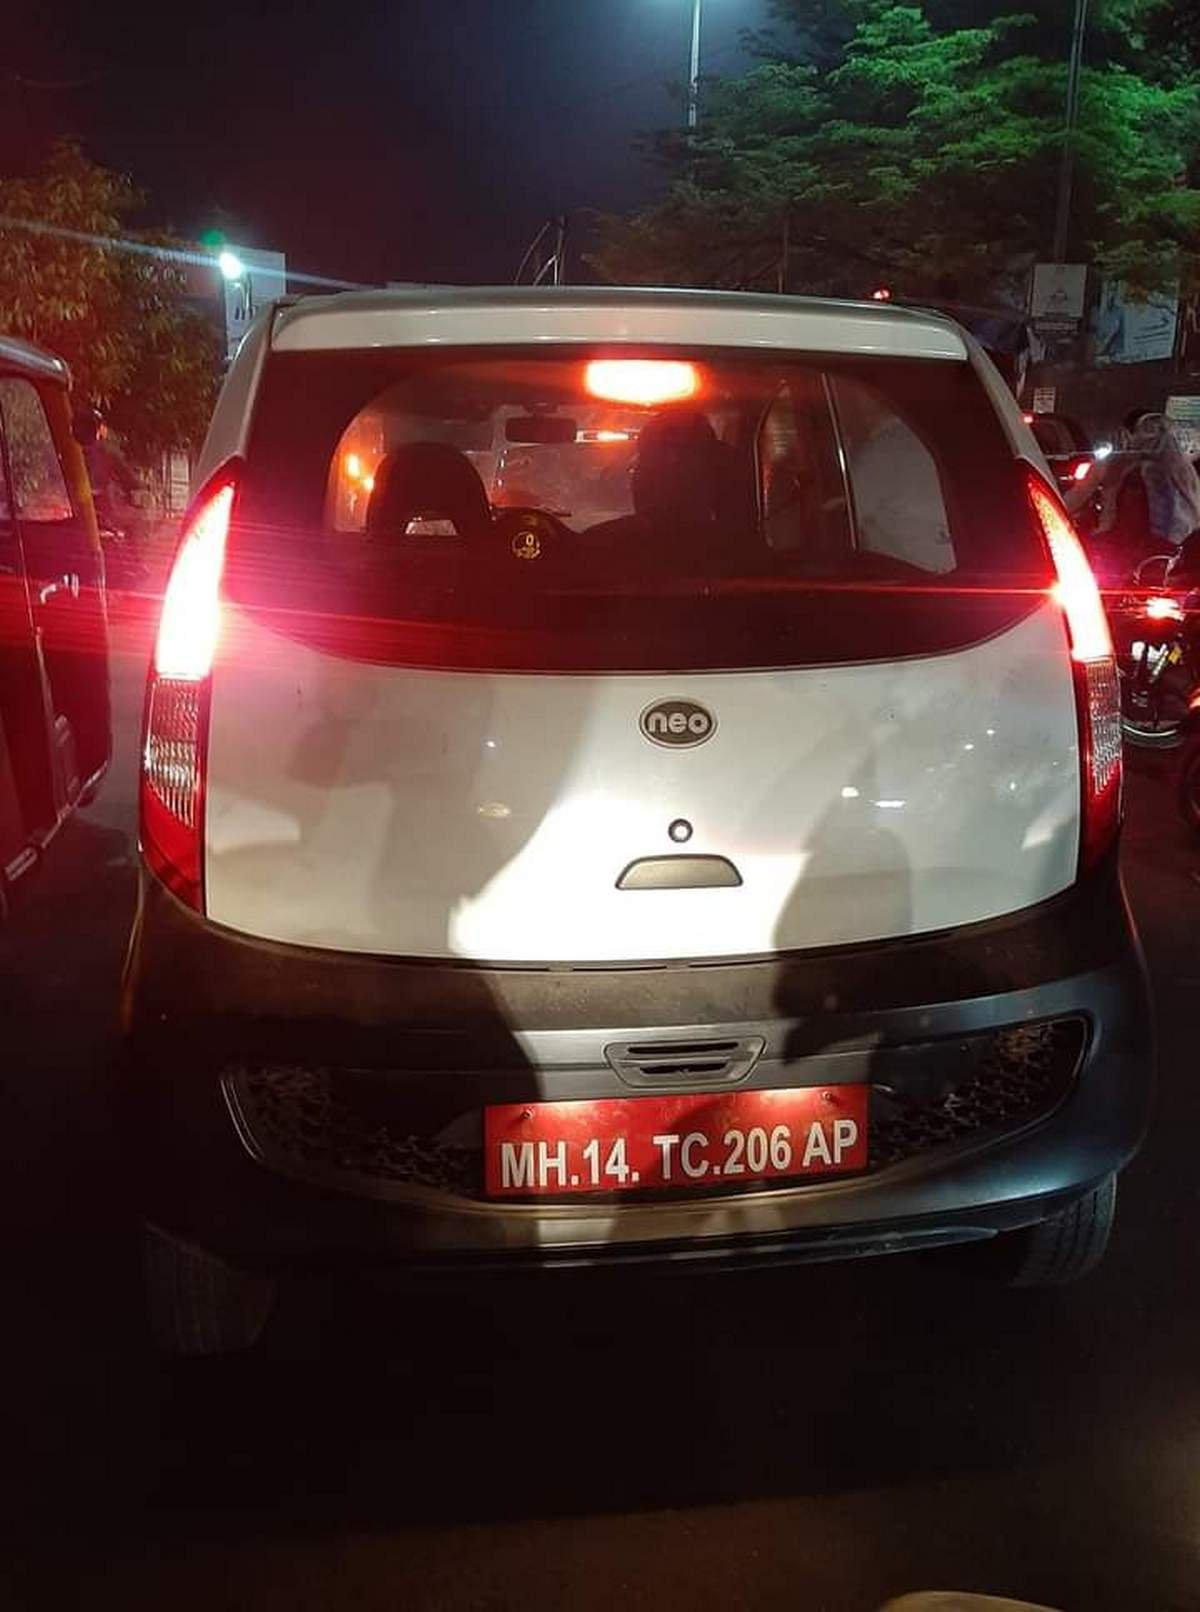Nano: (107, 289, 1153, 1436)
